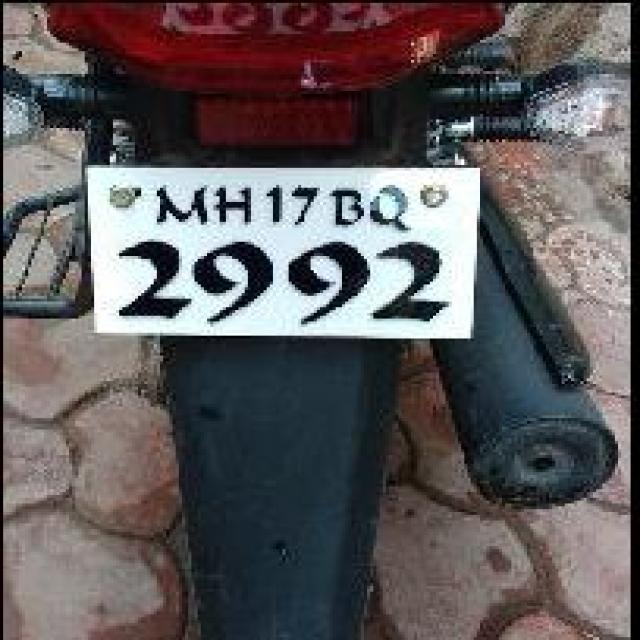number plate: (79, 160, 483, 342)
